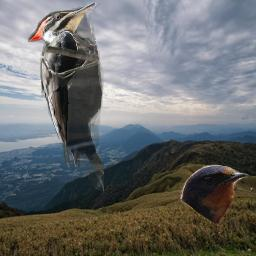Swallow: (180, 164, 249, 224)
Woodpecker: (28, 2, 104, 196)
